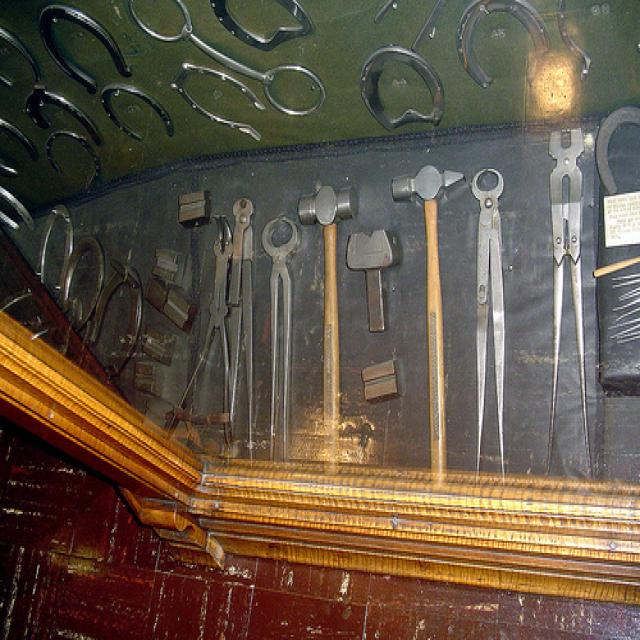hammer: (280, 168, 378, 469), (386, 152, 468, 468)
